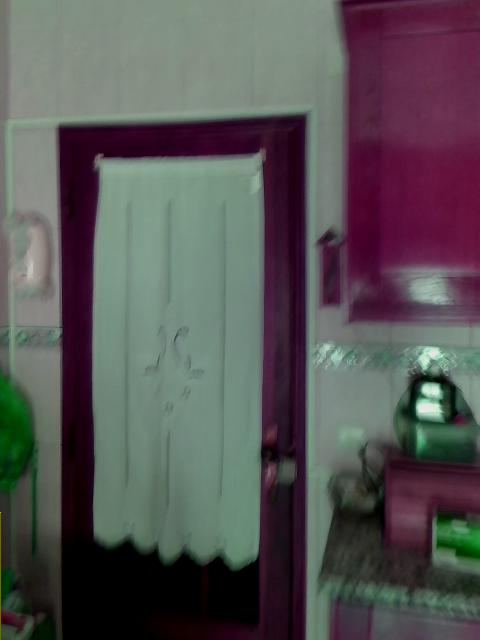closed_door: (60, 105, 314, 639)
